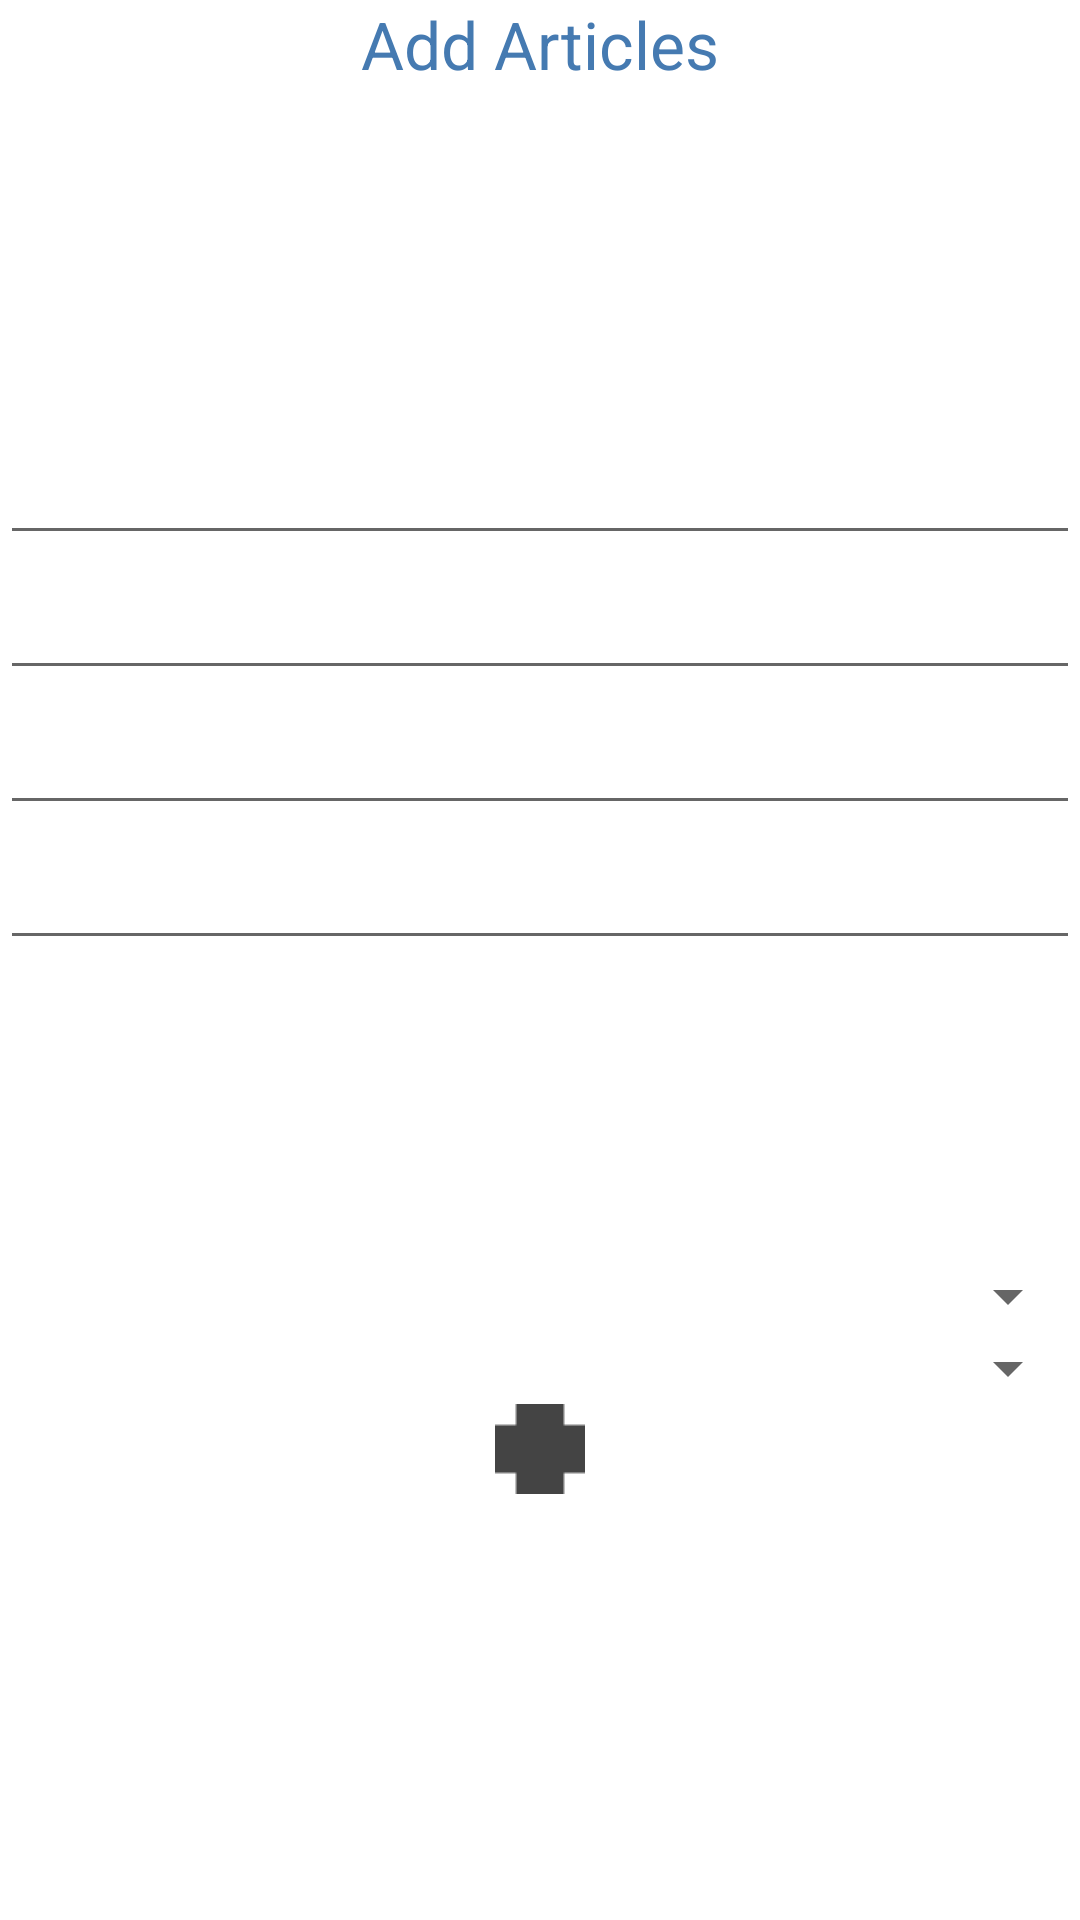

Locate icon controls on the screen. Image size 1080x1920, boxes as (x1, y1, x2, y2).
plus: (495, 1404, 585, 1494)
